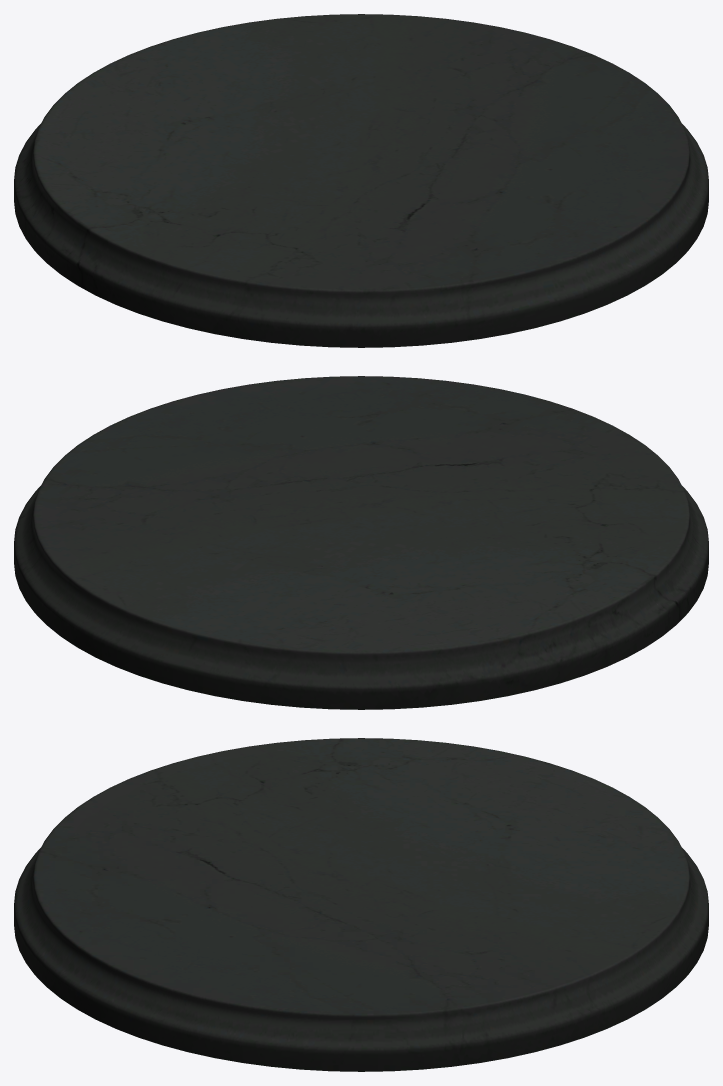
Rendered from pedestal.glb.
3 views of the same model, one above another, from view 1: azimuth 30°, elevation 25°; view 2: azimuth 150°, elevation 25°; view 3: azimuth 270°, elevation 25° (orthographic).
Visible parts, largest first — view 1: renderMesh0; view 2: renderMesh0; view 3: renderMesh0.
Part boxes in pixels (left/top/right/bottom): renderMesh0: left=14, top=14, right=708, bottom=347; renderMesh0: left=14, top=376, right=708, bottom=709; renderMesh0: left=14, top=738, right=708, bottom=1071.
Size of the model in its own units: 3.35 by 0.2591 by 3.35.
1 material, 1 textured.
